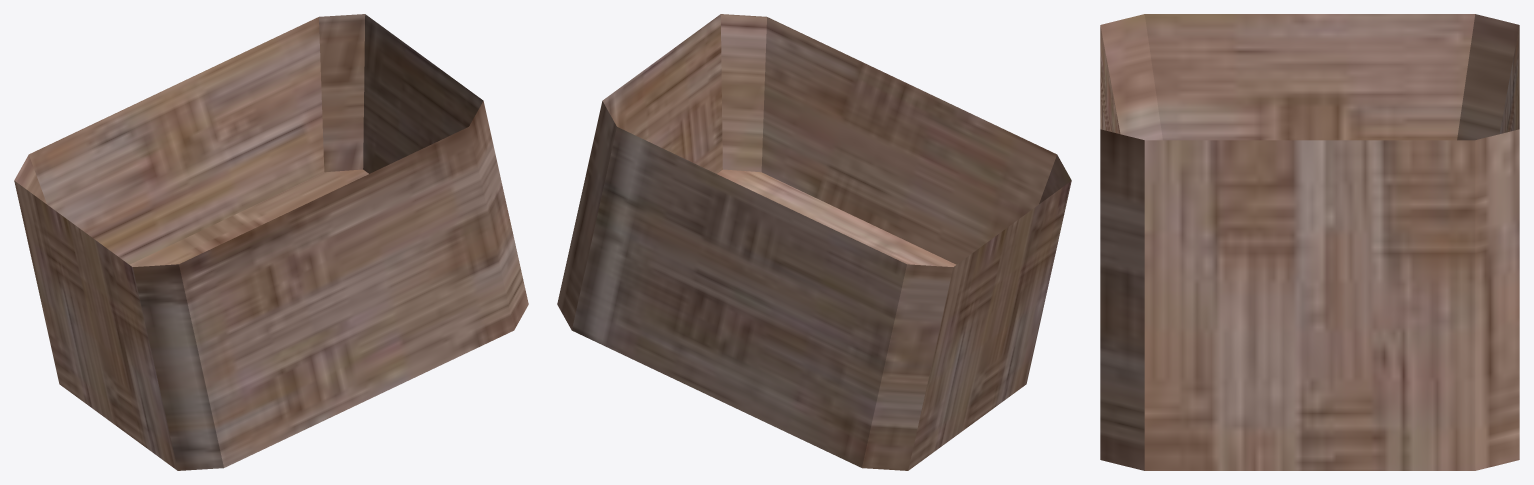
File: caixas comida.fbx
The picture shows the model from 3 angles, left to right: view 1: azimuth 30°, elevation 25°; view 2: azimuth 150°, elevation 25°; view 3: azimuth 270°, elevation 25°; orthographic projection. The views are drawn at different scales.
Parts seen in each view (by area): view 1: pCube123; view 2: pCube123; view 3: pCube123.
Boxes of the visible parts, bbox=[...] form: pCube123: bbox=[14, 14, 528, 470]; pCube123: bbox=[557, 14, 1071, 470]; pCube123: bbox=[1100, 14, 1519, 470].
Bounding box in the file's own units: 27.45 × 19.57 × 18.01.
